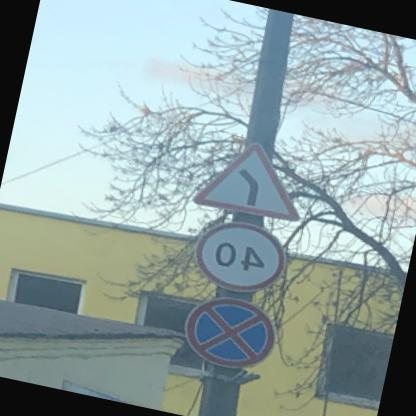speedlimit: (191, 214, 293, 300)
